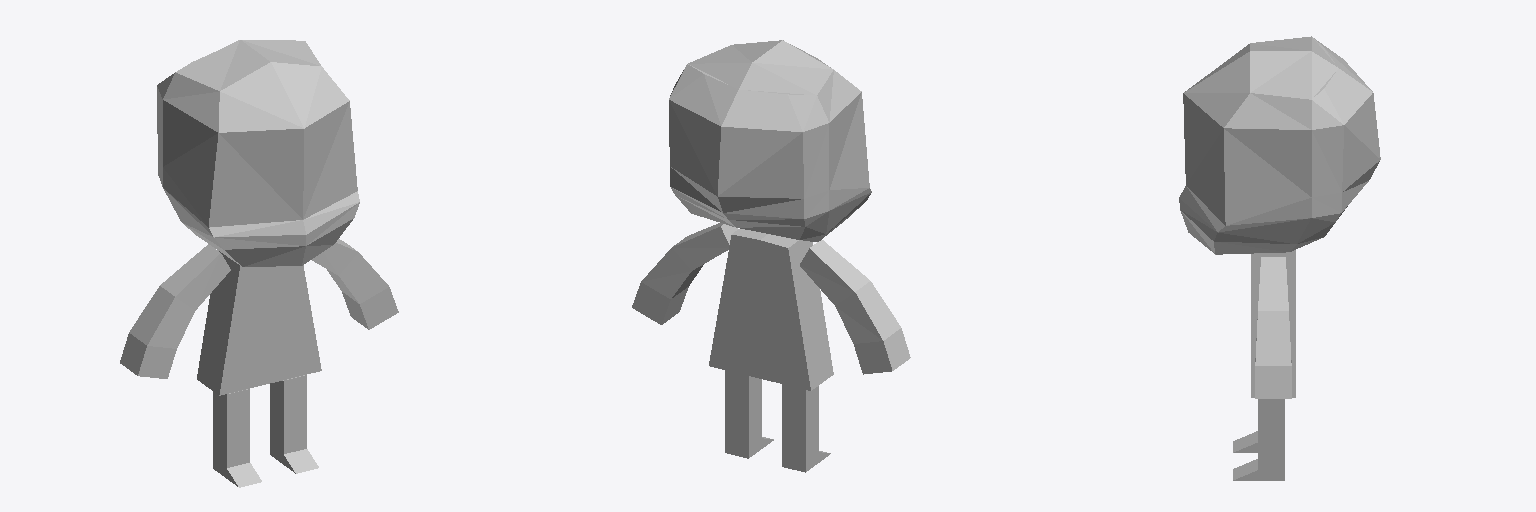
File: player.obj
The picture shows the model from 3 angles: view 1: azimuth 30°, elevation 25°; view 2: azimuth 150°, elevation 25°; view 3: azimuth 270°, elevation 25°; orthographic projection.
Parts seen in each view (by area): view 1: Head_Cube.002, Body_Cube.001, Legs_Cube.003; view 2: Head_Cube.002, Body_Cube.001, Legs_Cube.003; view 3: Head_Cube.002, Body_Cube.001, Legs_Cube.003.
Boxes of the visible parts, x1,y1,x2,y2 form: Head_Cube.002: [157, 40, 359, 266]; Body_Cube.001: [120, 239, 398, 395]; Legs_Cube.003: [213, 375, 318, 487]; Head_Cube.002: [669, 40, 871, 241]; Body_Cube.001: [632, 223, 910, 390]; Legs_Cube.003: [725, 370, 830, 472]; Head_Cube.002: [1179, 36, 1380, 254]; Body_Cube.001: [1251, 250, 1295, 398]; Legs_Cube.003: [1233, 399, 1284, 480].
Bounding box in the file's own units: 2.9 × 4.34 × 1.94.